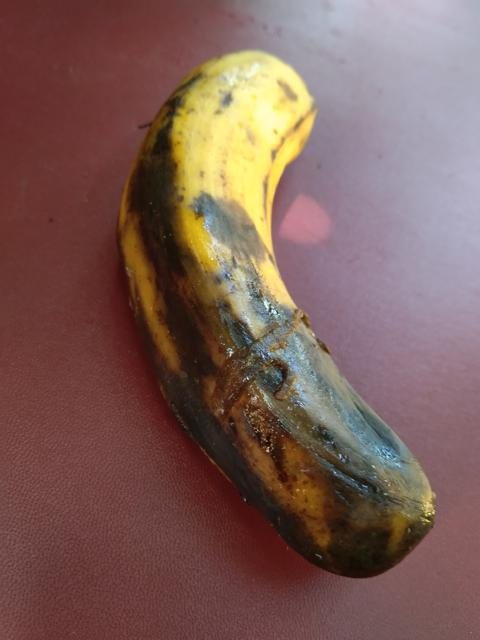rotten: (115, 37, 465, 634)
